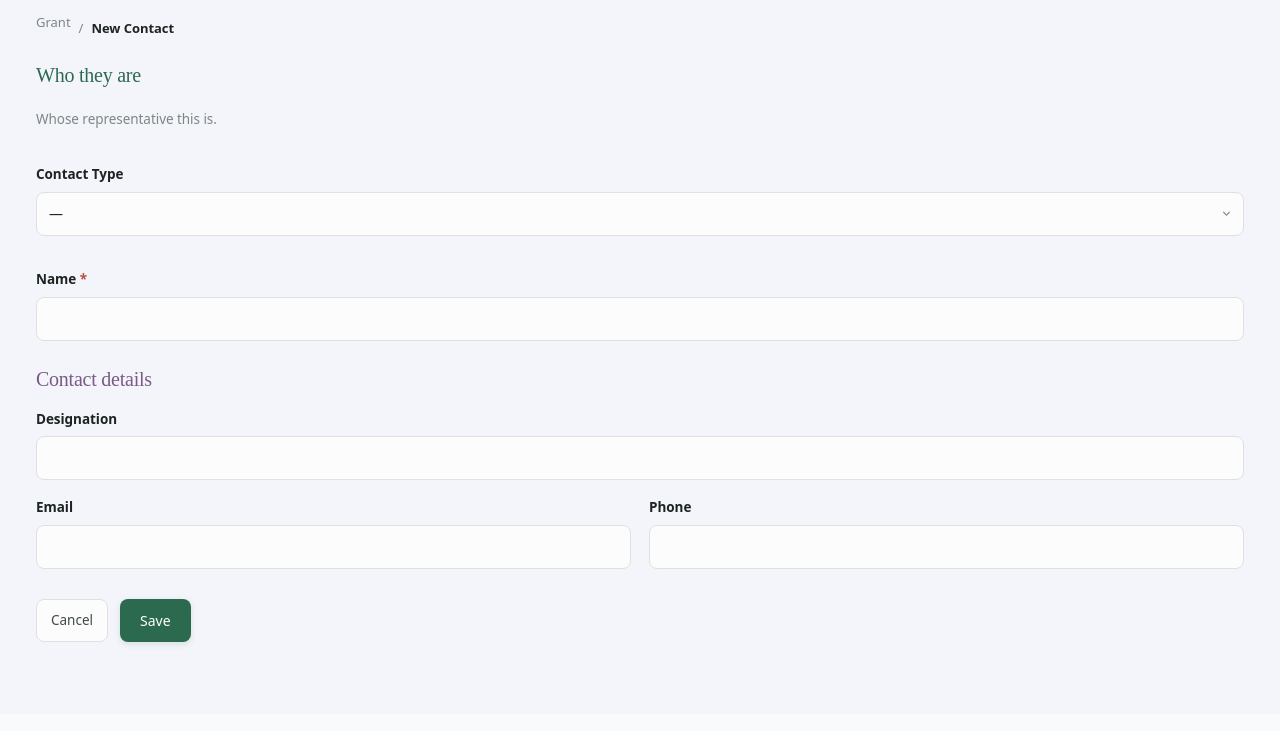
Scenario: creating a contact › a server refusal on partnerId is shown under the partner organisation
Select "Partner representative" in the dropdown labelled "Contact Type". click: (640, 214)
box: 36,192 -> 1244,236
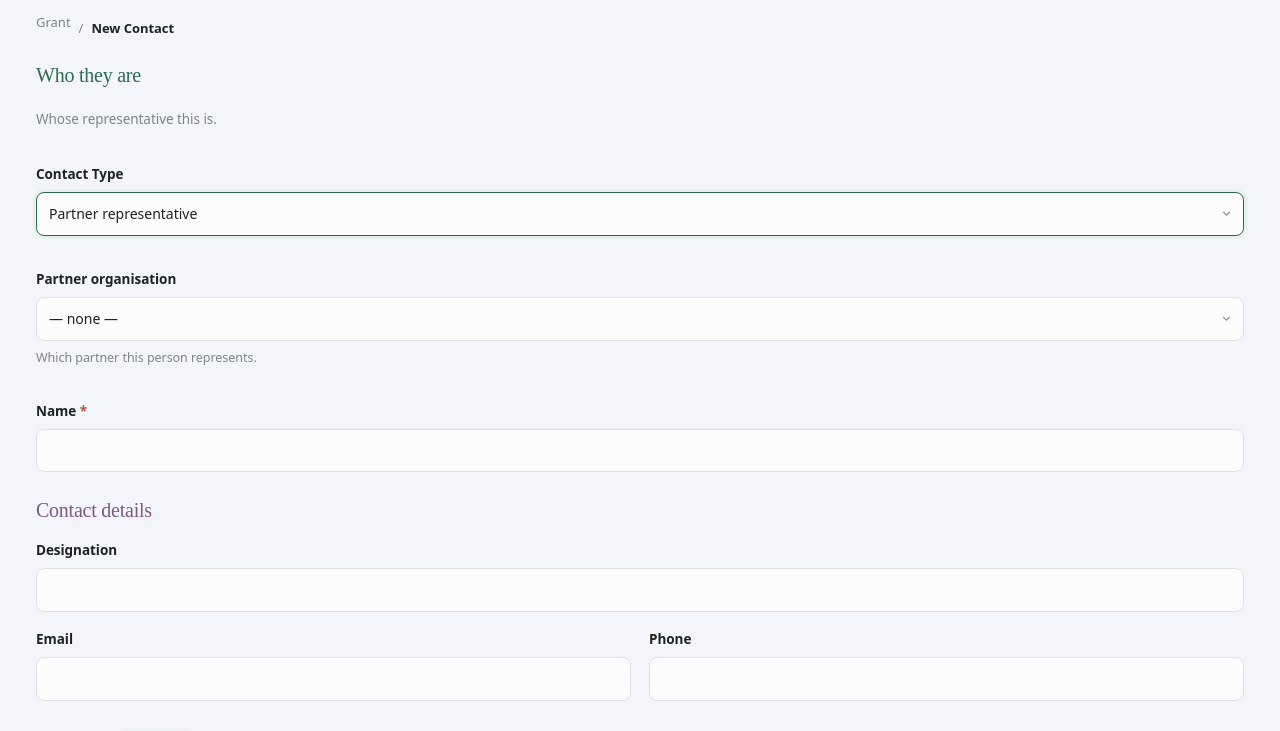
Select "A1 Classes" in the dropdown labelled "Partner organisation". click: (640, 319)
box: 36,297 -> 1244,340
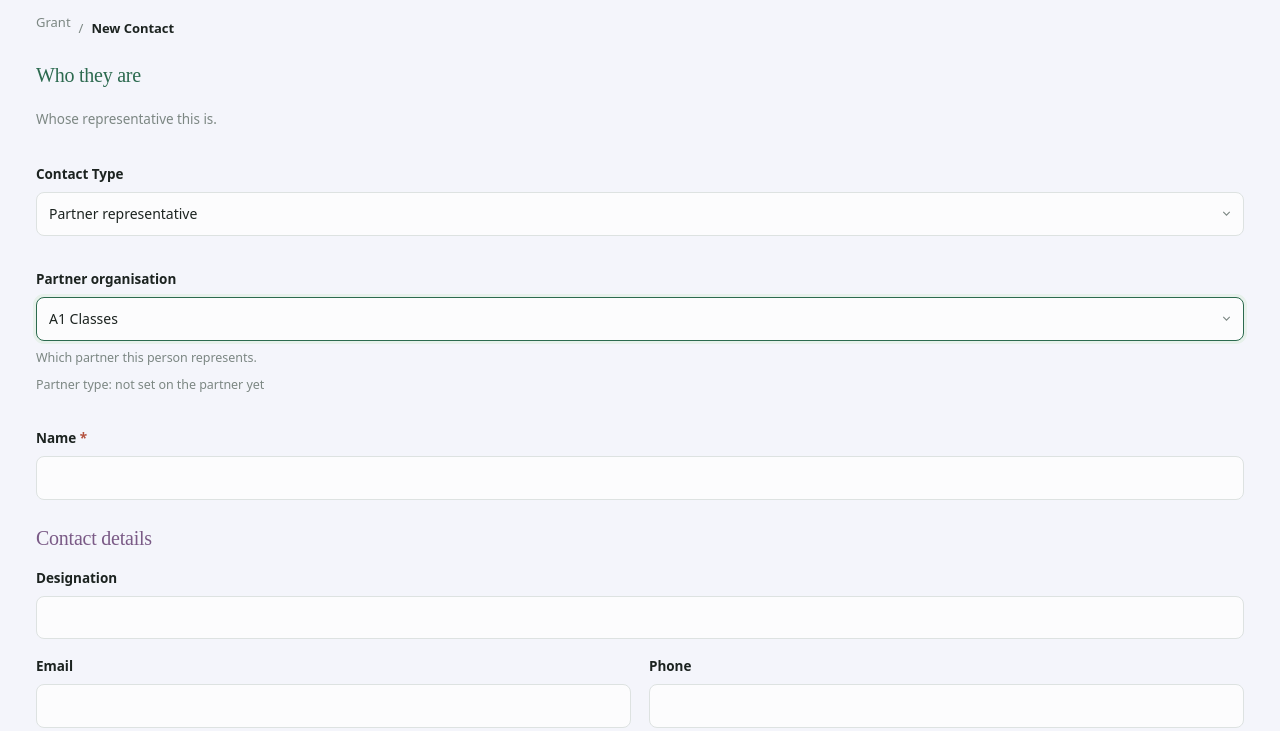
Type "Partner Person" into the field labelled "Name *". click: (640, 478)
box: 36,456 -> 1244,500
(page scrolled)
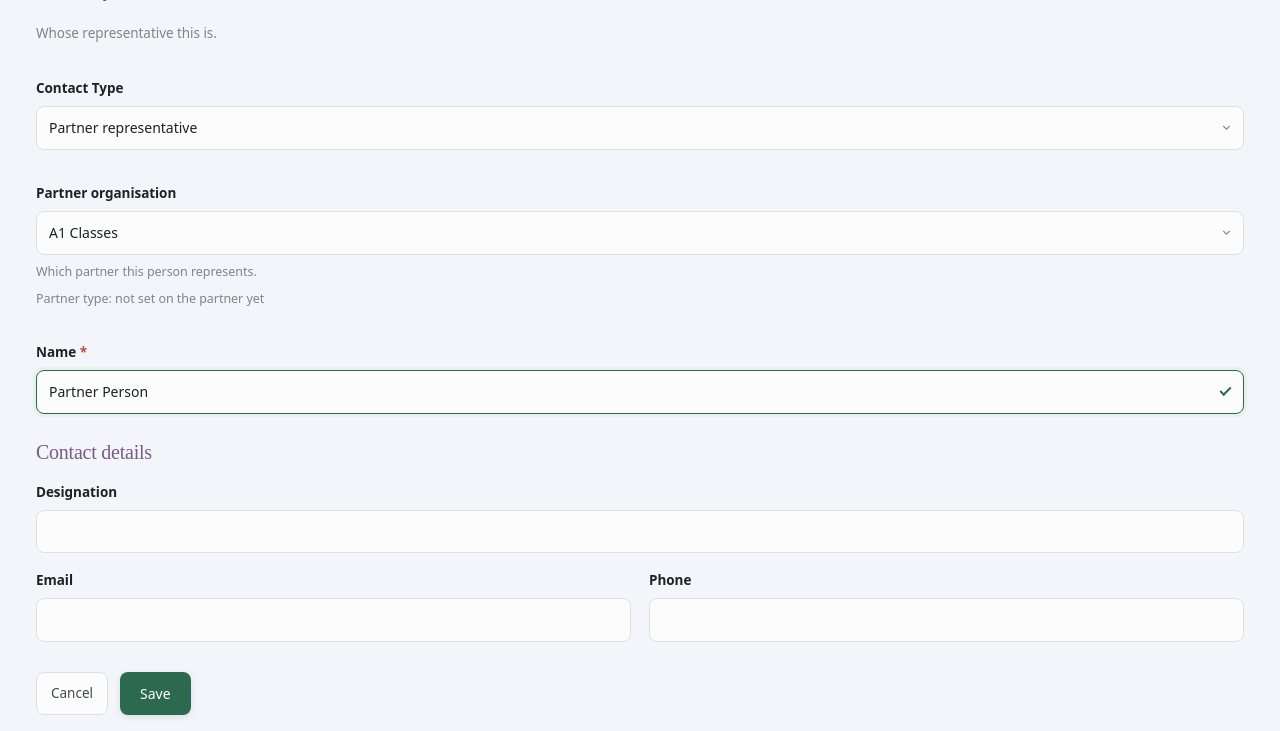
Click the button "Save". click: click(155, 694)
box: 120,672 -> 191,715
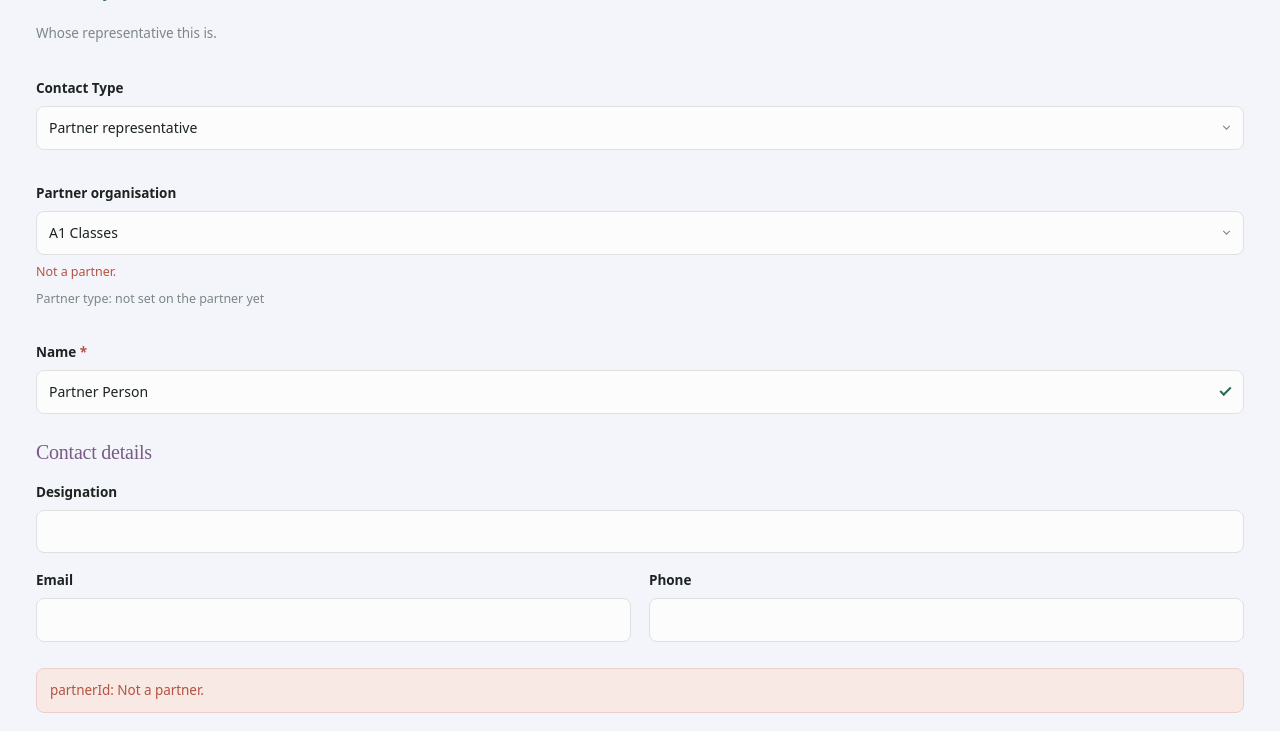
Expected: the text "Not a partner." is shown, 36,262 -> 116,280
